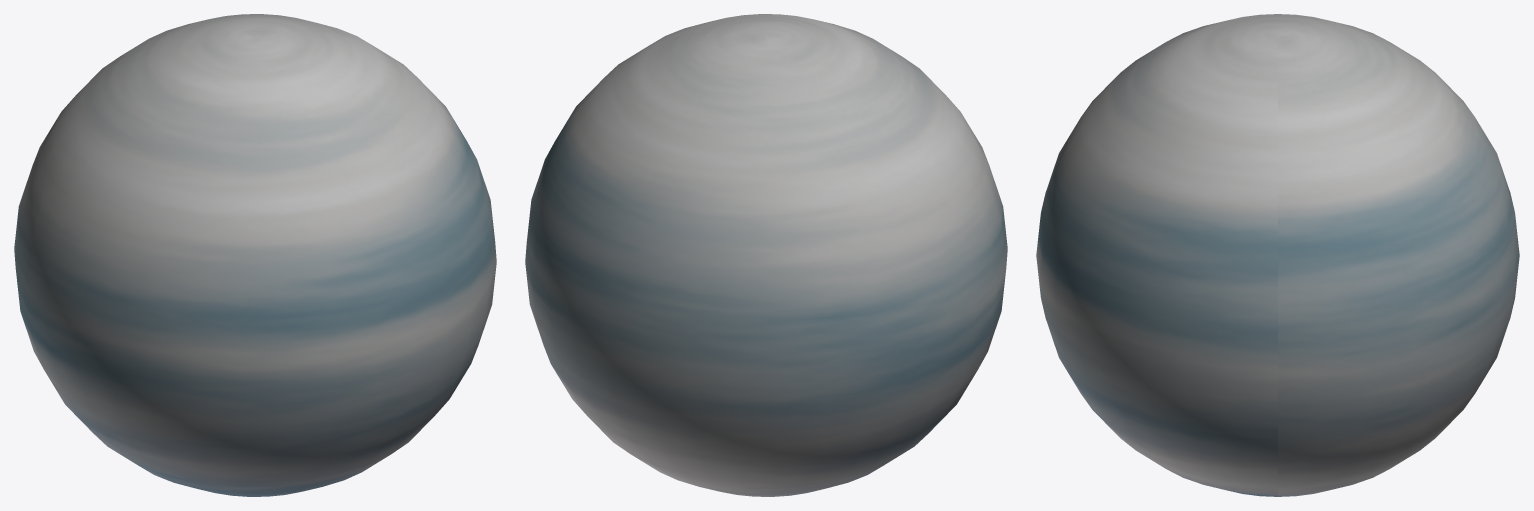
Rendered from sirenscove_start.fbx.
3 views of the same model, side by side, from view 1: azimuth 30°, elevation 25°; view 2: azimuth 150°, elevation 25°; view 3: azimuth 270°, elevation 25° (orthographic).
Visible parts, largest first — view 1: sky; view 2: sky; view 3: sky.
Boxes of the visible parts, x1=… form: sky: x1=14, y1=14, x2=496, y2=496; sky: x1=525, y1=14, x2=1007, y2=496; sky: x1=1036, y1=14, x2=1519, y2=496.
Size of the model in its own units: 32814 by 32814 by 32814.
31 materials, 31 textured.
